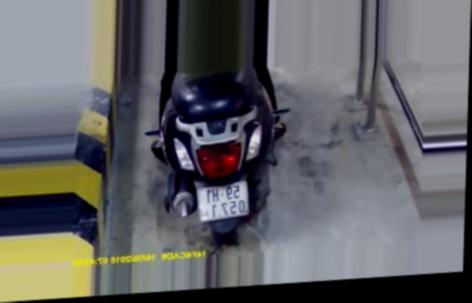License_Plate: (192, 177, 253, 224)
